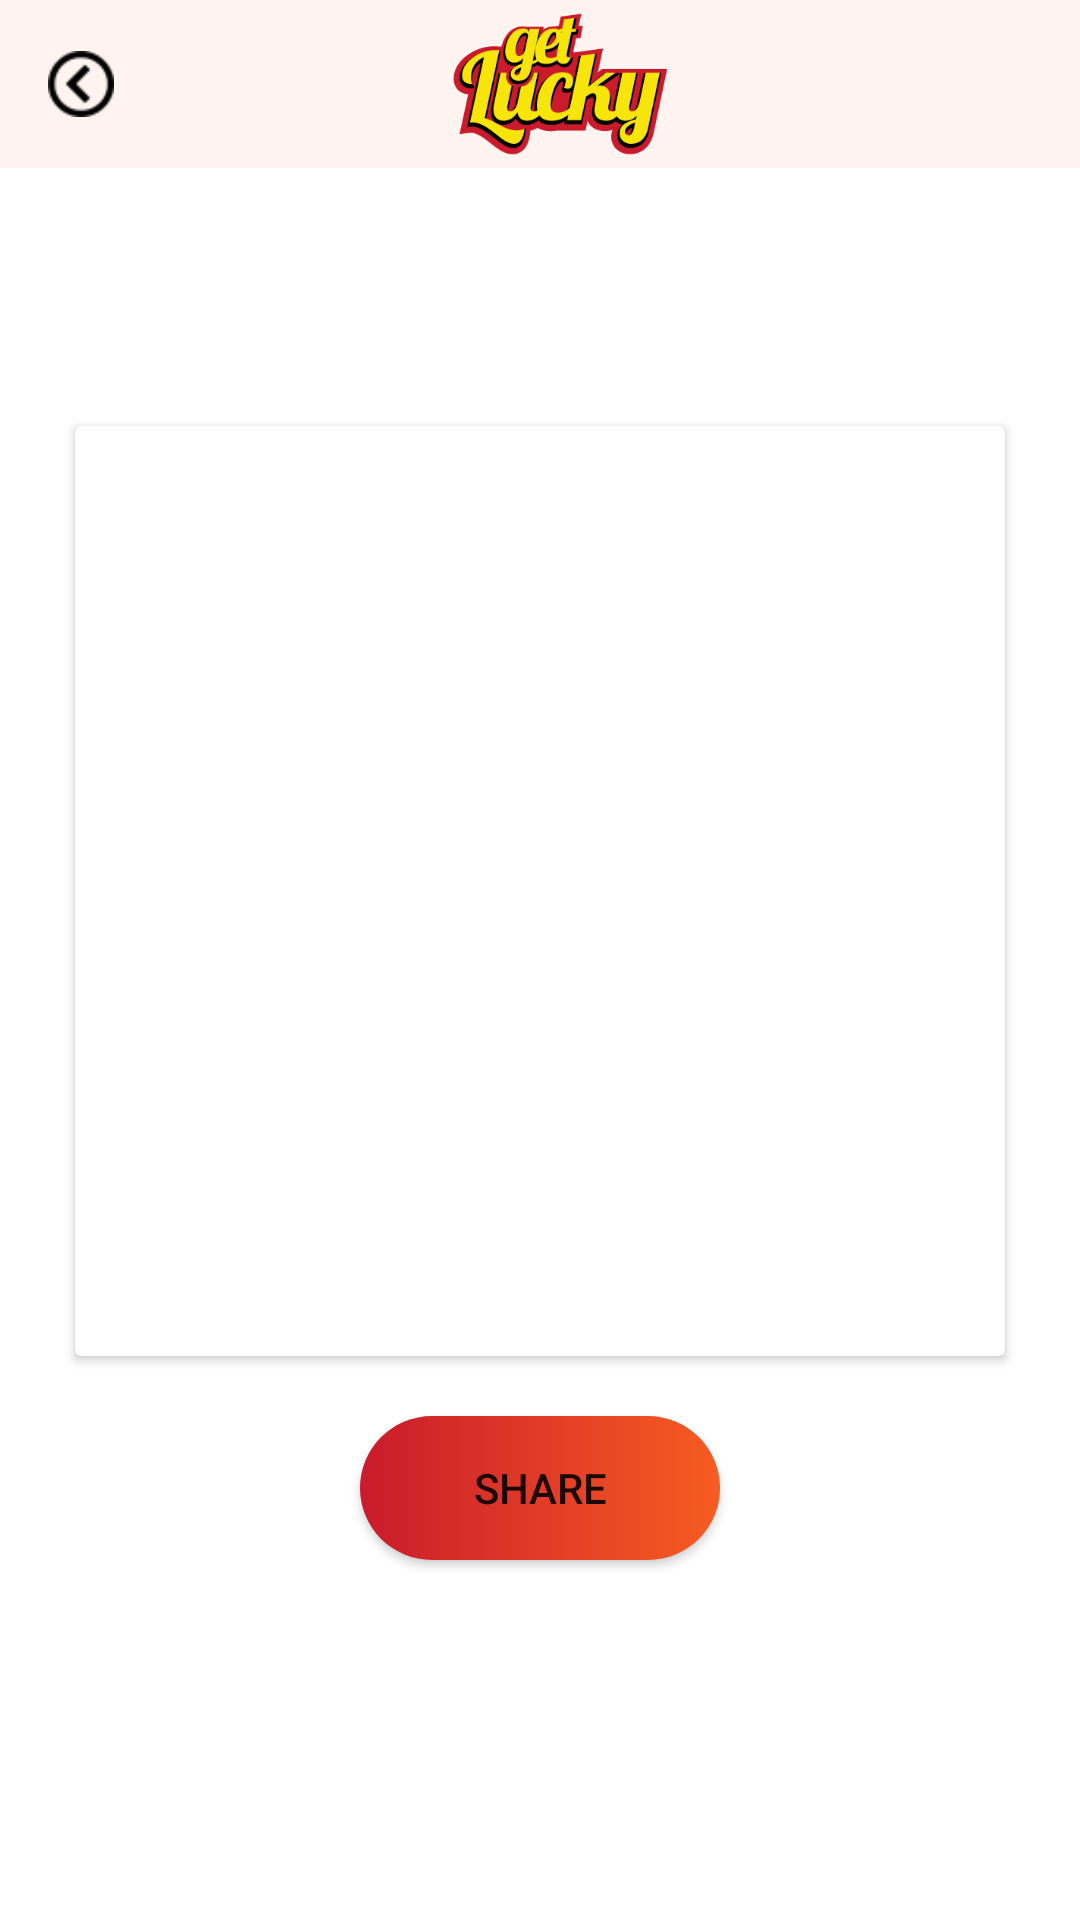

Named icons in this screenshot (1080w x 1920h) and their centers, [x,y]:
back: [81,84]
